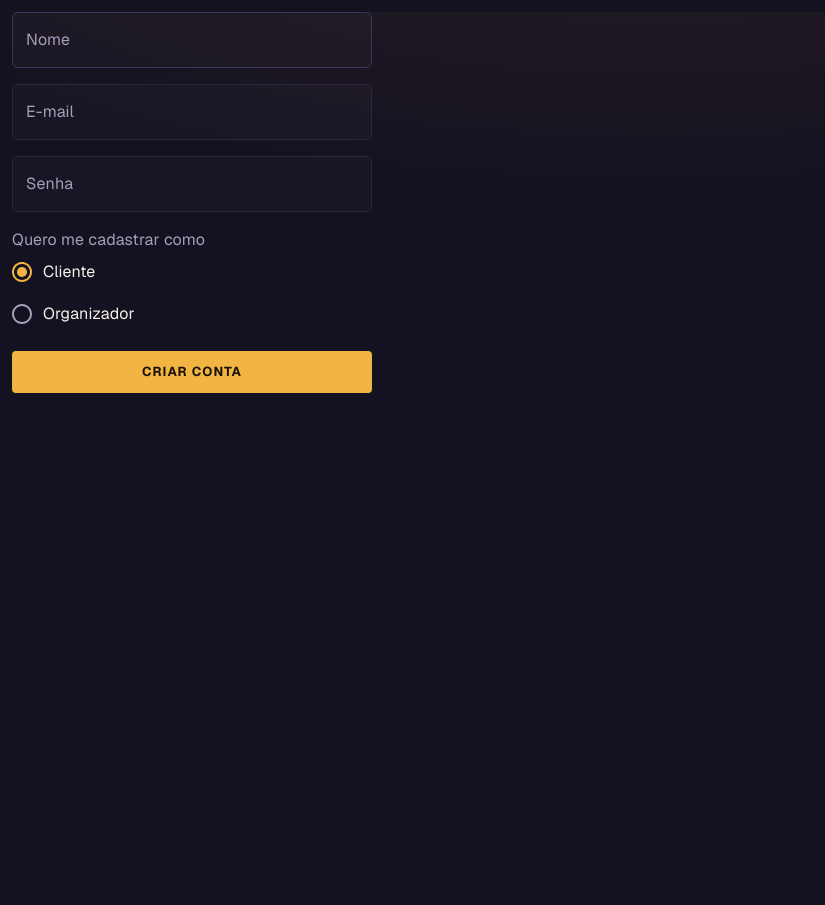
it: RegisterForm › shows a toast when the email is already registered
Step 1. Type "Ana" into the field labelled "Nome" → [192, 40], box x1=12 y1=12 x2=372 y2=68
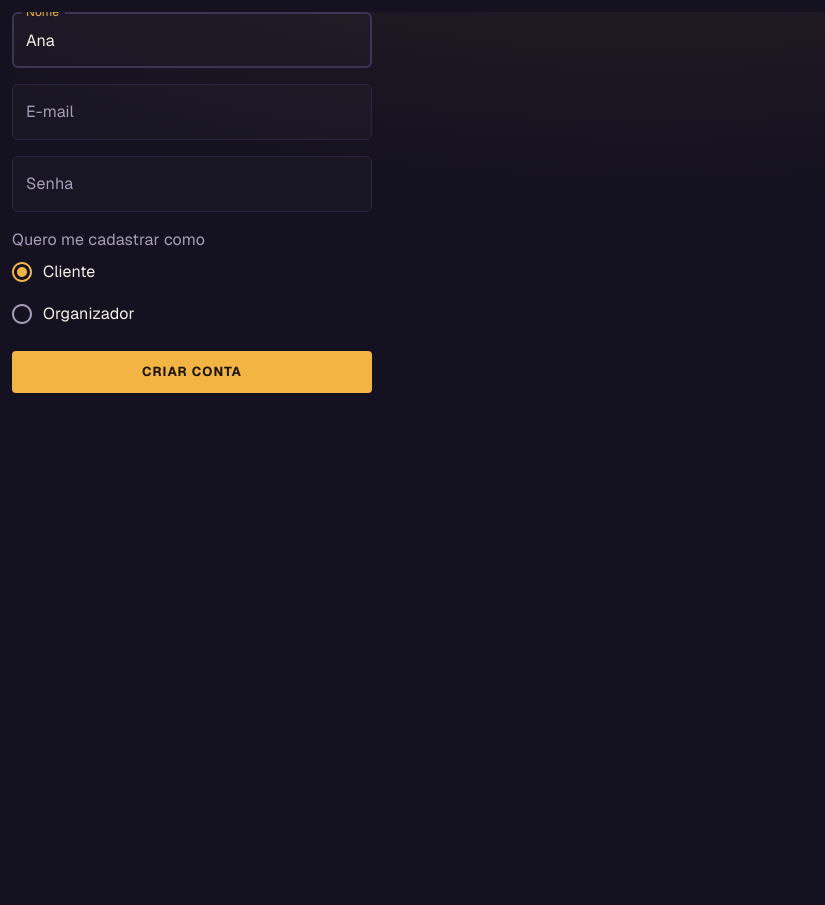
Step 2. Type "ana@verzel.com" into the field labelled "E-mail" → [192, 112], box x1=12 y1=84 x2=372 y2=140
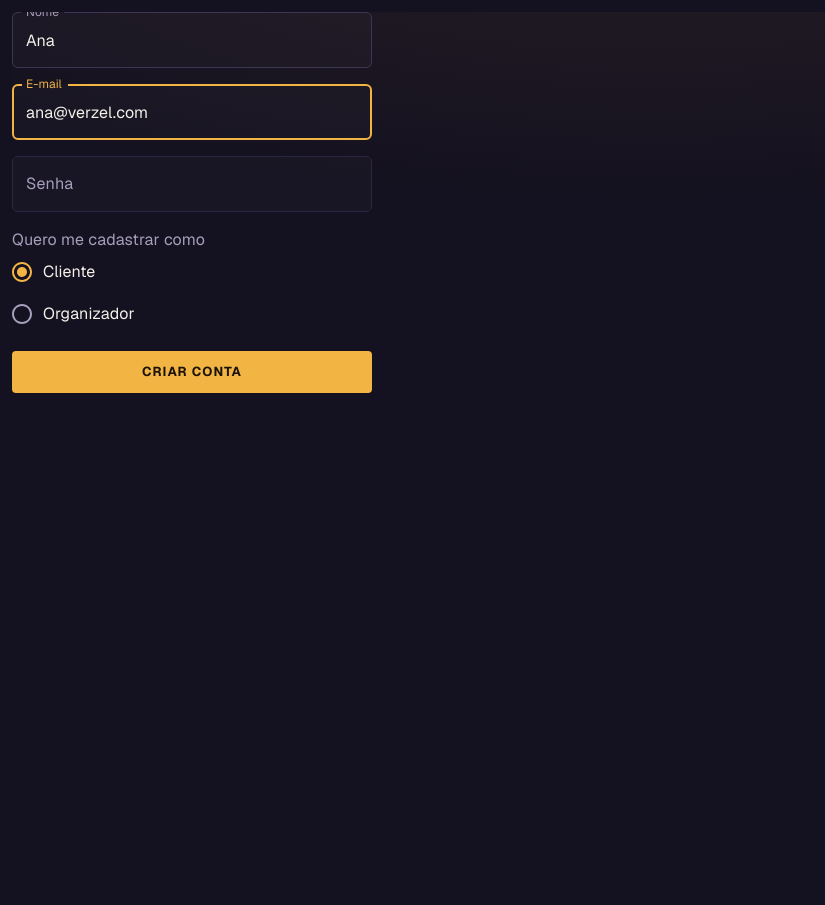
Step 3. Type "senha123" into the password field labelled "Senha" → [192, 184], box x1=12 y1=156 x2=372 y2=212
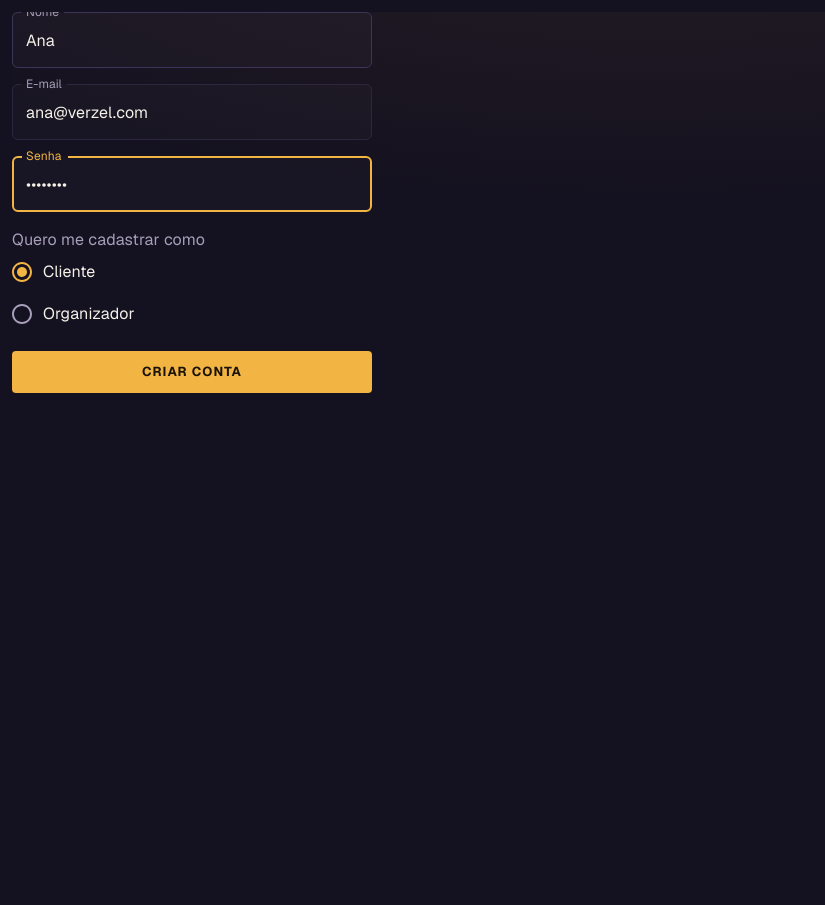
Step 4. Click the button "Criar conta" → [192, 372], box x1=12 y1=351 x2=372 y2=393
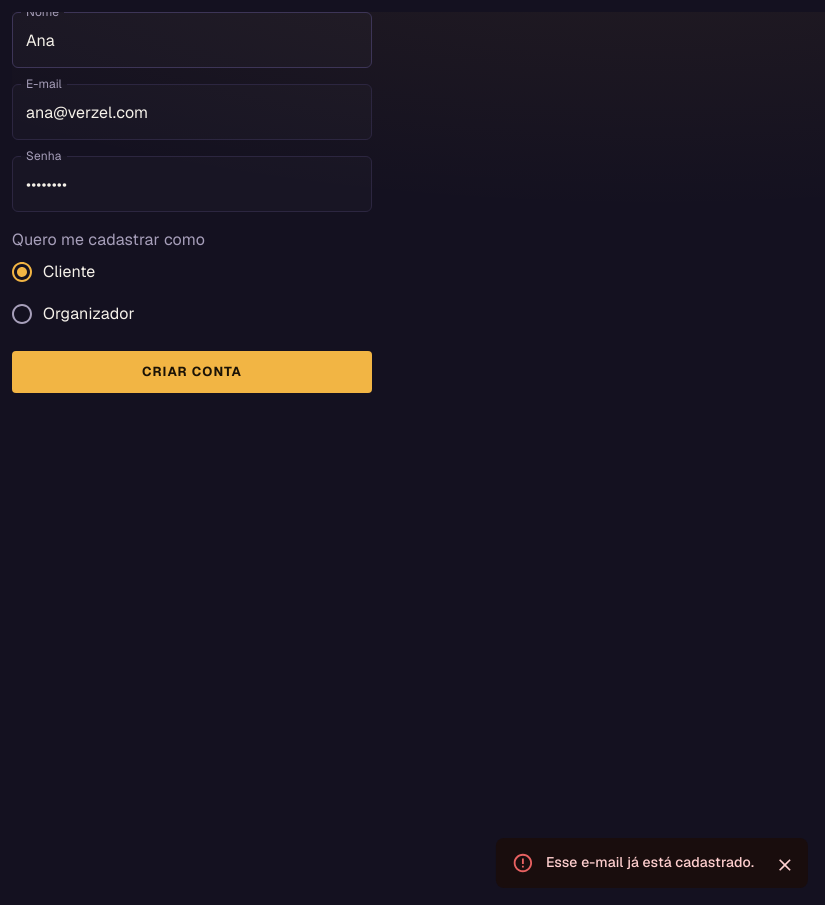
Expected: the text "Esse e-mail já está cadastrado." is shown, x1=546 y1=853 x2=754 y2=871
